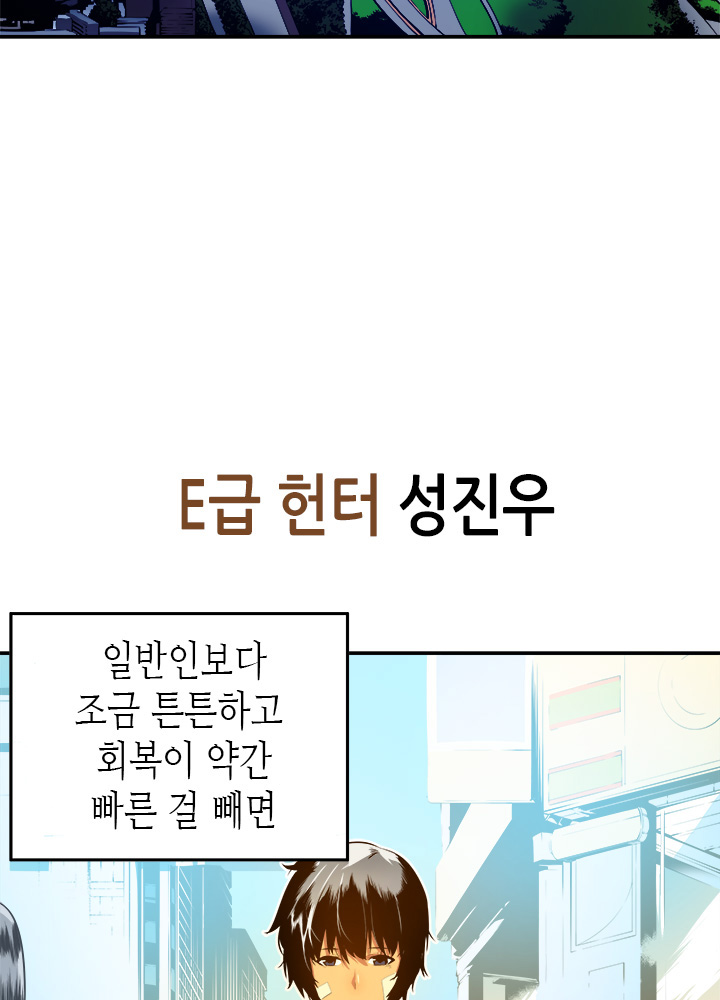dialog box: (1, 597, 381, 886)
text: (147, 435, 586, 582), (54, 612, 309, 855)
